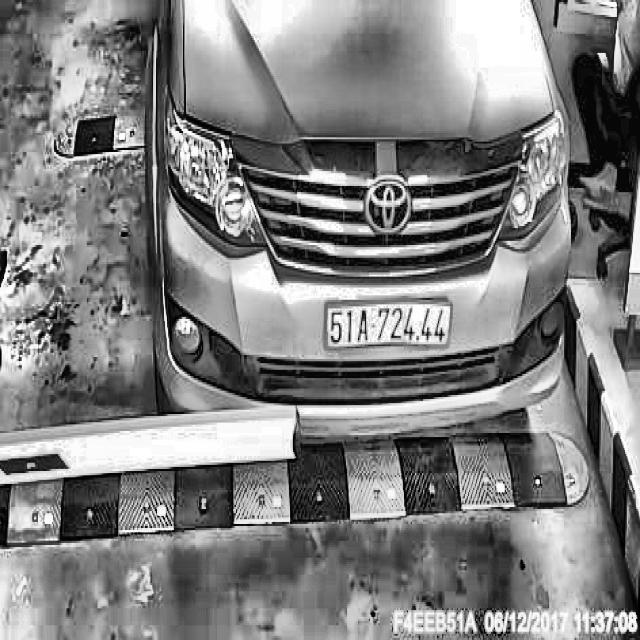plate: (318, 295, 457, 351)
